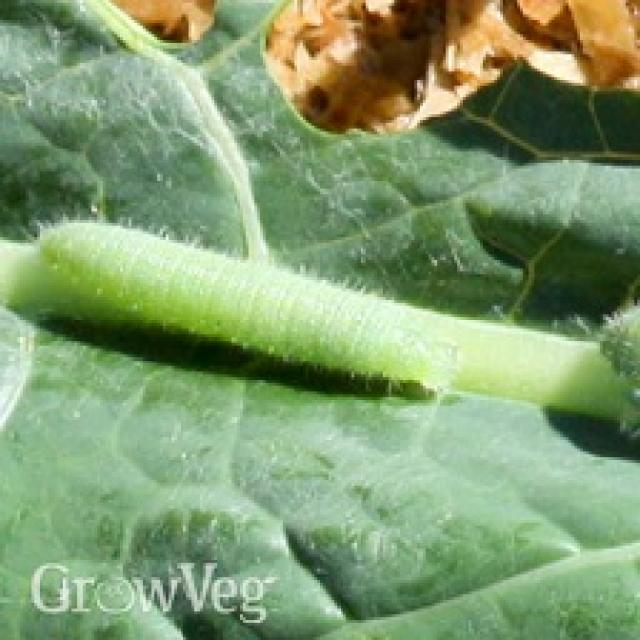Cabbage-worm: (40, 166, 640, 451)
